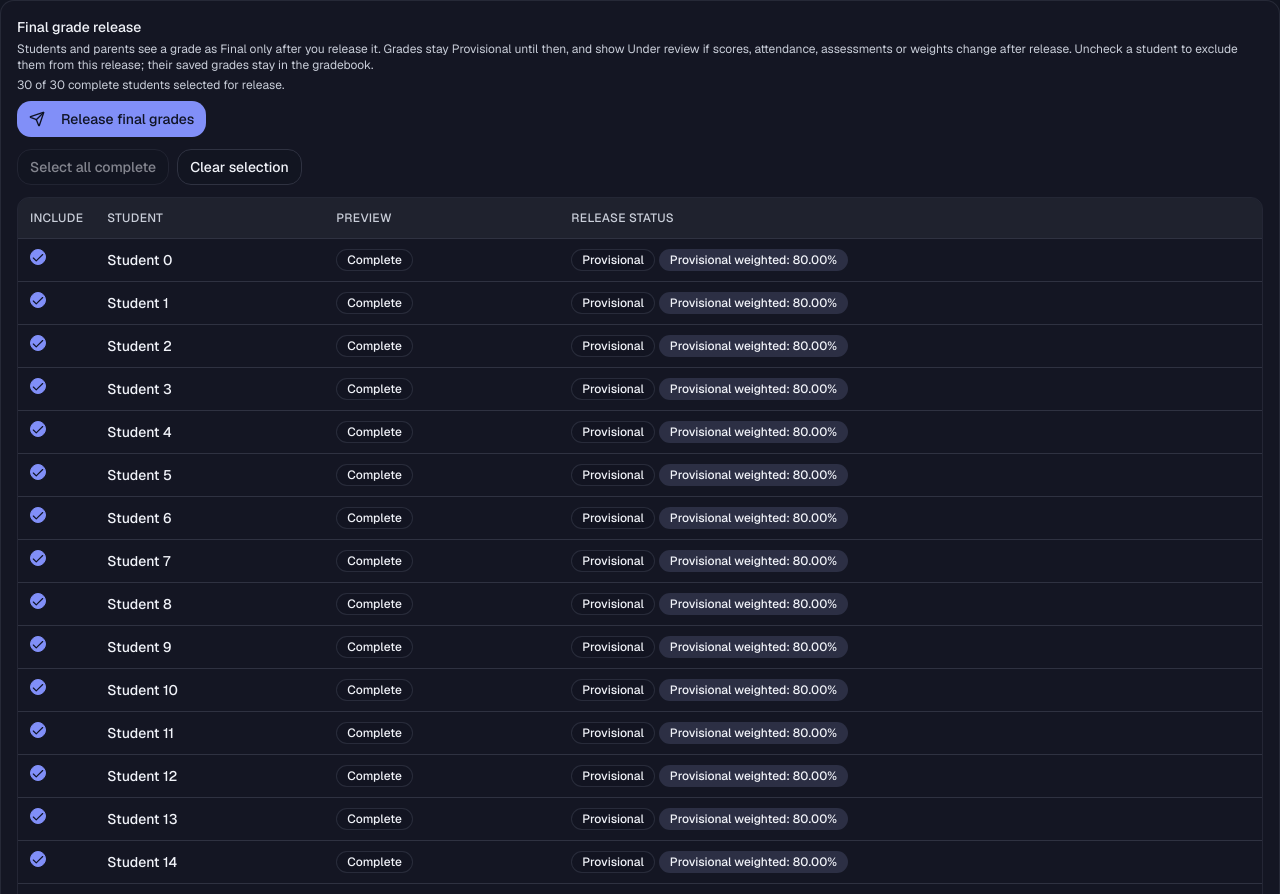
it: FinalGradeReleasePanel › 30 students: one release request and one status read
What coordinates should you click on to do the following:
click the button "Release final grades"
I would click on:
 (112, 119)
Its box is [17,101,206,137].
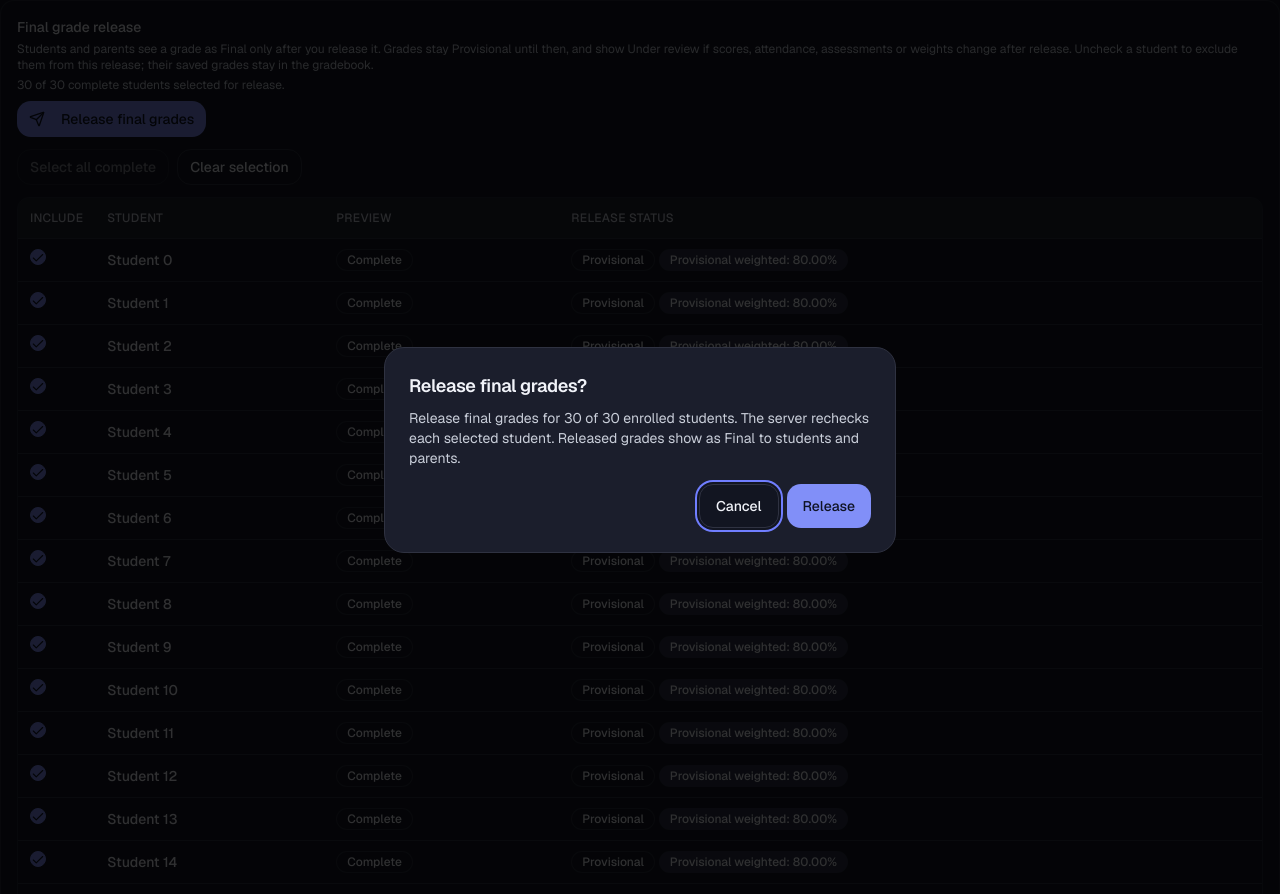
What coordinates should you click on to do the following:
click the button "Release"
I would click on:
 (829, 506)
Its box is [786,484,871,528].
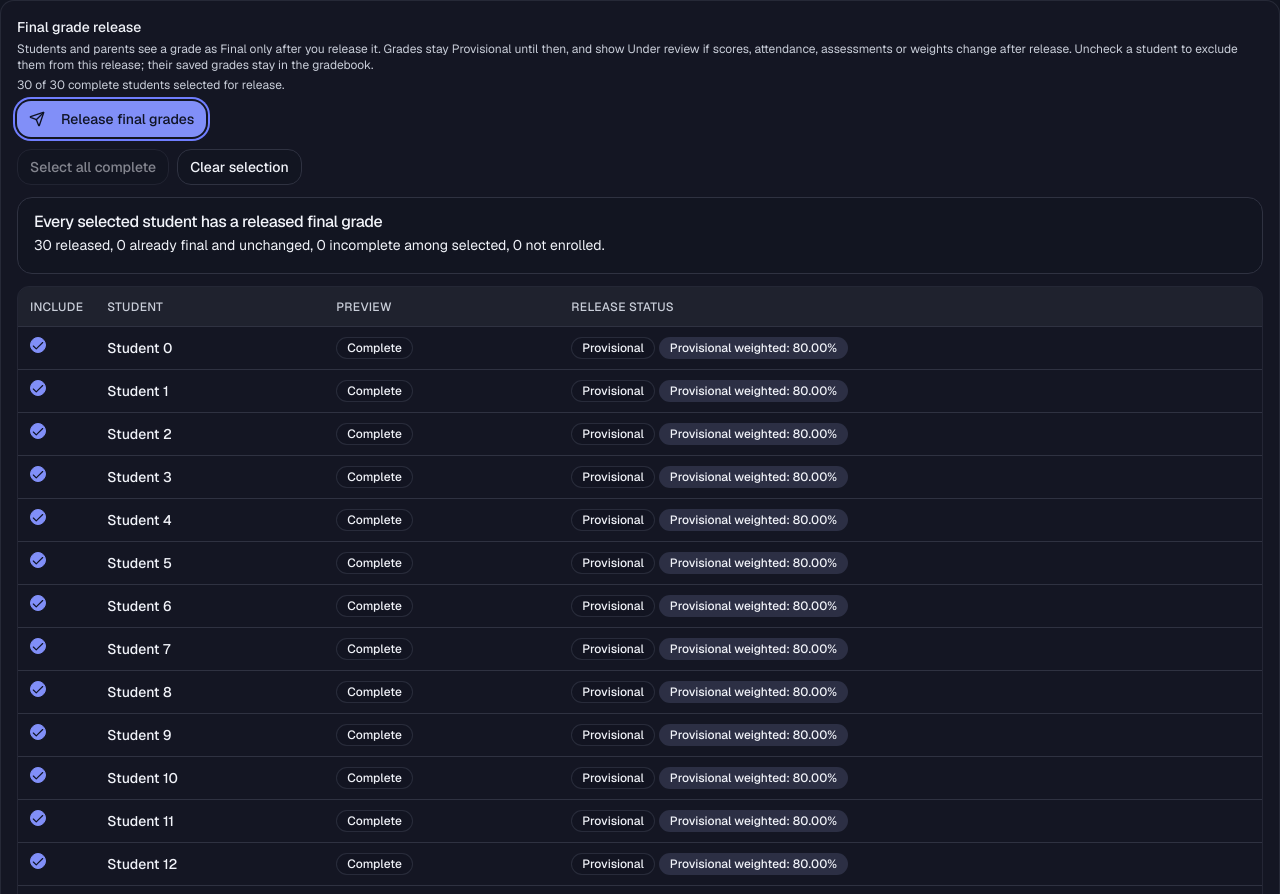
Expected: the heading "Every selected student has a released final grade" is shown, [34,211,382,232]
